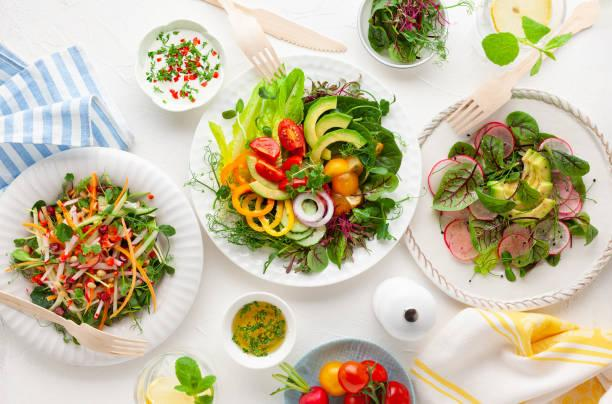Braised Crucian Carp: (186, 52, 415, 284), (405, 87, 612, 309), (3, 146, 203, 366)
